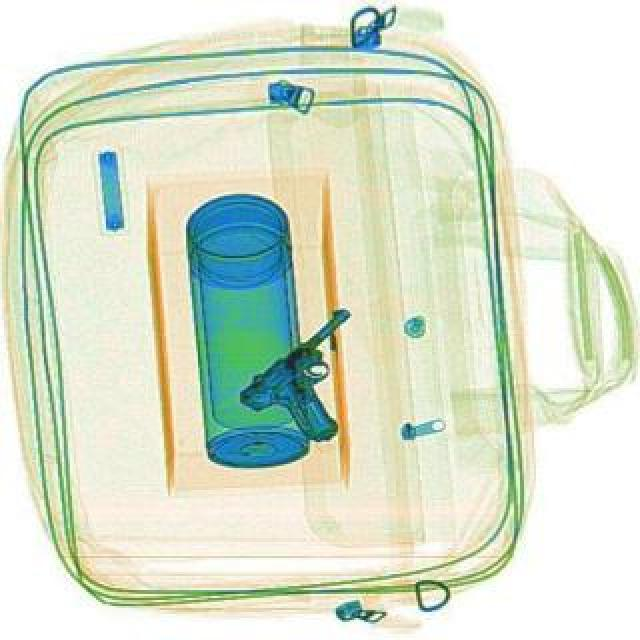gun: (232, 300, 410, 462)
